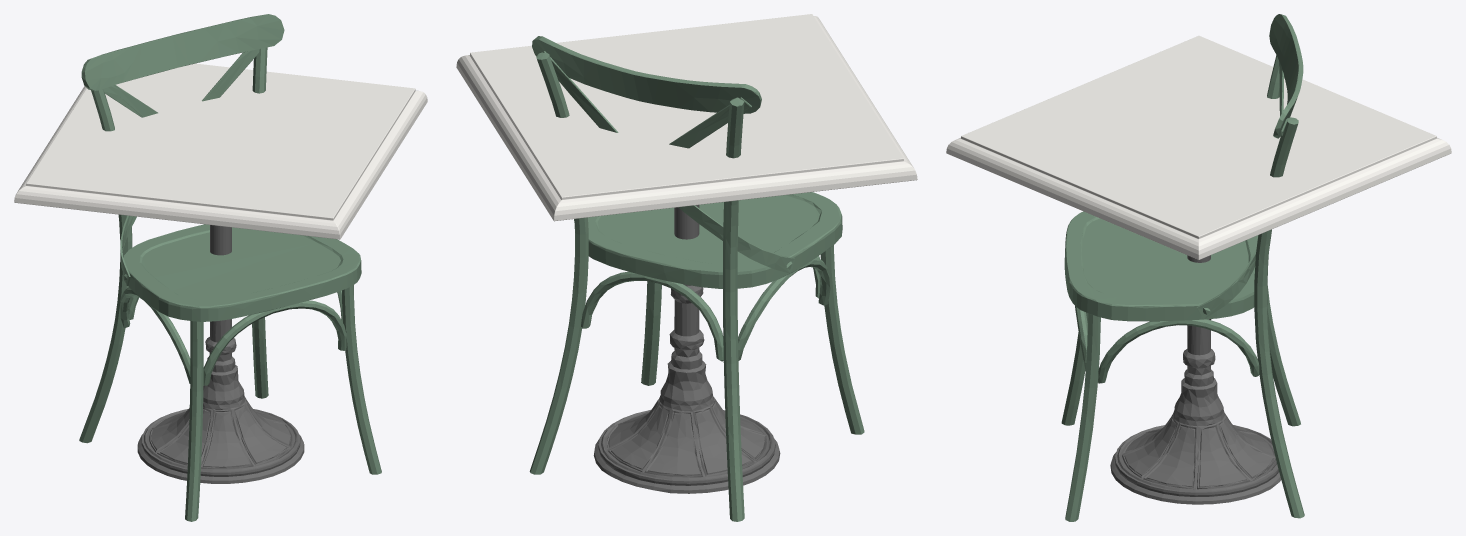
The model's file is cafe-set.glb.
3 views of the same model, side by side, from view 1: azimuth 30°, elevation 25°; view 2: azimuth 150°, elevation 25°; view 3: azimuth 270°, elevation 25° (orthographic). The views are drawn at different scales.
Parts seen in each view (by area): view 1: table_top, chair, table_base; view 2: table_top, chair, table_base; view 3: table_top, chair, table_base.
Part boxes in pixels (x1,y1,x2,y2): table_top: (14, 63, 427, 239); chair: (79, 14, 381, 521); table_base: (137, 225, 304, 483); table_top: (456, 14, 917, 221); chair: (529, 36, 864, 521); table_base: (593, 205, 780, 493); table_top: (946, 35, 1451, 259); chair: (1061, 14, 1304, 521); table_base: (1110, 255, 1281, 504).
Size of the model in its own units: 1 by 0.8926 by 1.
